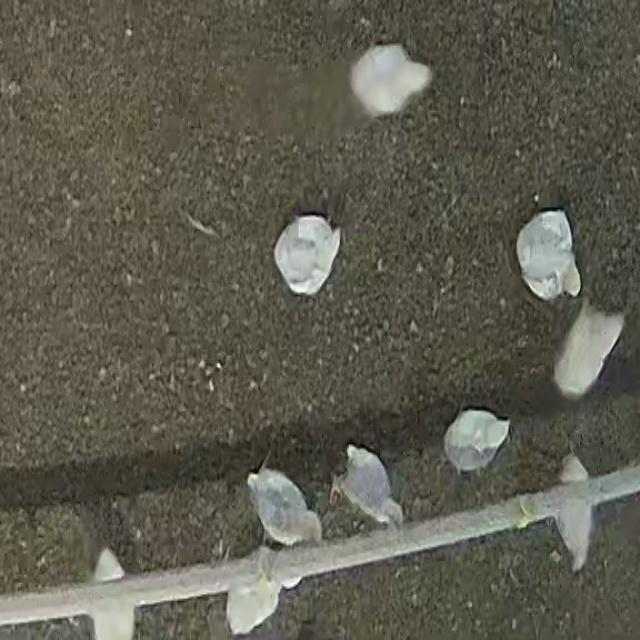chicken: (554, 304, 624, 402), (328, 444, 404, 530), (247, 464, 324, 548), (351, 43, 432, 120), (276, 213, 349, 296), (543, 454, 594, 572), (515, 209, 580, 300), (442, 407, 510, 476)
